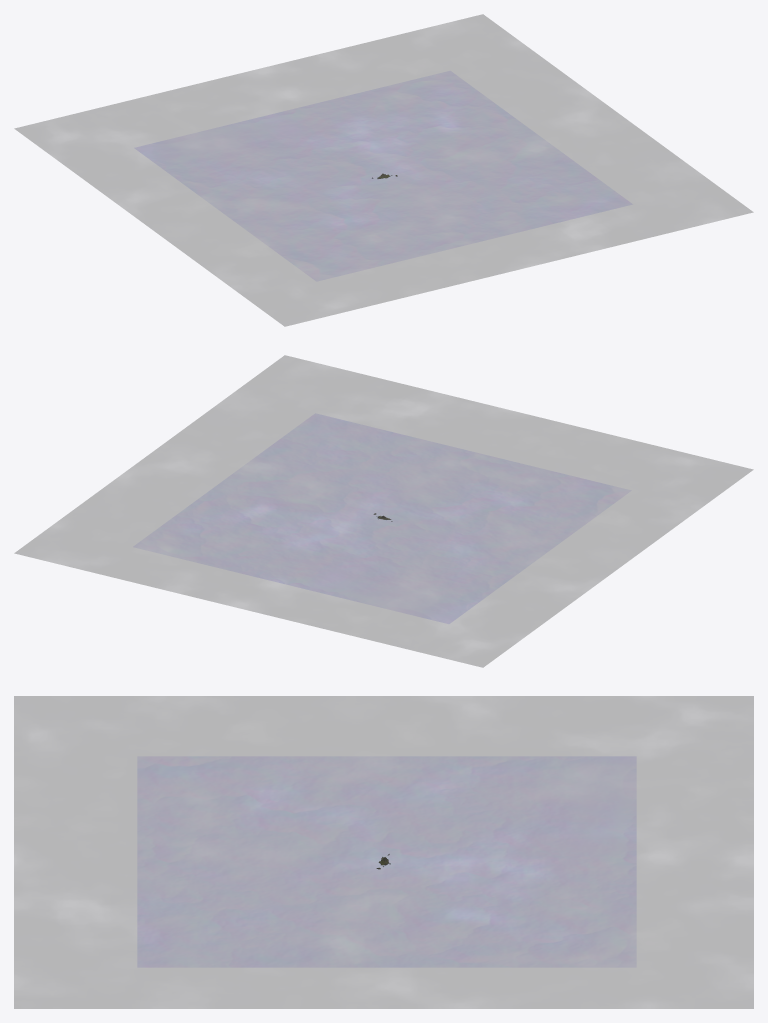
Rendered from island_1.glb.
3 renders of one model, top to bottom at view 1: azimuth 30°, elevation 25°; view 2: azimuth 150°, elevation 25°; view 3: azimuth 270°, elevation 25°, orthographic. The views are drawn at different scales.
Visible parts, largest first — view 1: Plane.004, Plane.001; view 2: Plane.004, Plane.001; view 3: Plane.004, Plane.001.
Boxes of the visible parts, left/top/right/bottom form: Plane.004: left=14, top=14, right=753, bottom=326; Plane.001: left=135, top=88, right=608, bottom=228; Plane.004: left=14, top=355, right=753, bottom=667; Plane.001: left=184, top=420, right=526, bottom=623; Plane.004: left=14, top=696, right=753, bottom=1008; Plane.001: left=138, top=768, right=635, bottom=944.
Bounding box in the file's own units: 785 × 10.8 × 785.
16 materials, 13 textured.
